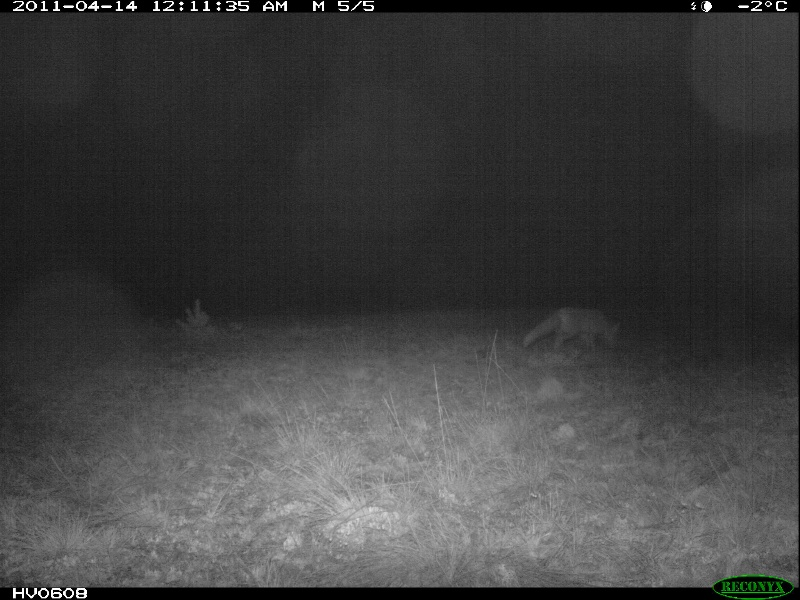fox: (519, 302, 622, 355)
